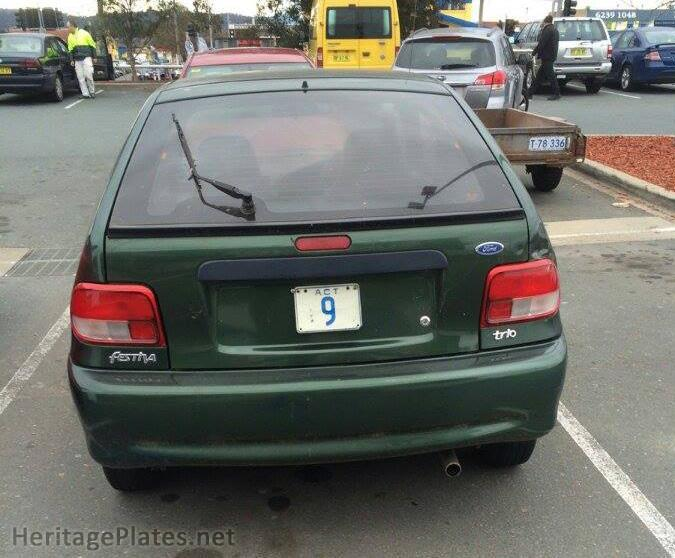bienso: (279, 278, 379, 344)
